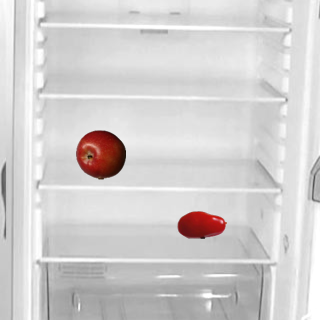Apple Braeburn: (75, 129, 125, 179)
Tomato 2: (176, 199, 226, 249)
